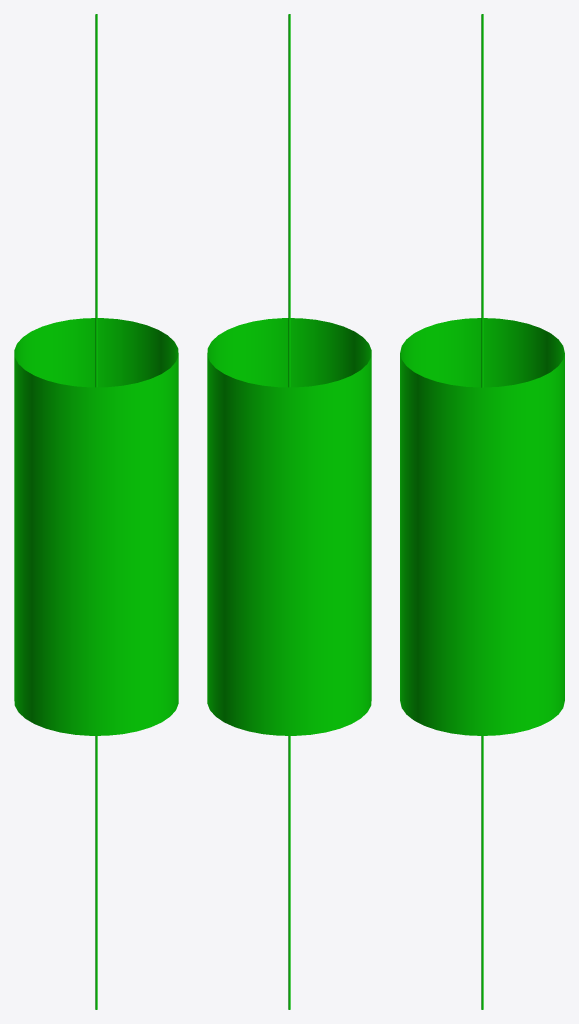
3 views of the same model, side by side, from view 1: azimuth 30°, elevation 25°; view 2: azimuth 150°, elevation 25°; view 3: azimuth 270°, elevation 25° (orthographic).
Parts seen in each view (by area): view 1: RSC2; view 2: RSC2; view 3: RSC2.
Boxes of the visible parts, bbox=[...] form: RSC2: bbox=[14, 14, 178, 1009]; RSC2: bbox=[207, 14, 371, 1009]; RSC2: bbox=[400, 14, 564, 1009].
Size of the model in its own units: 0.263 by 1.75 by 0.263.
